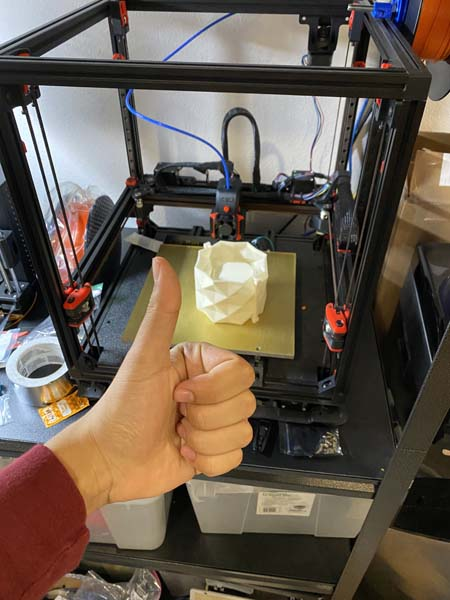Thumbs Up: (92, 244, 267, 516)
